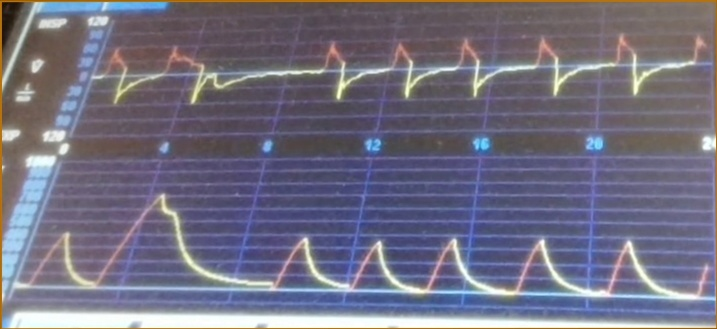Premature_cycling Flow: (103, 28, 712, 125)
Premature_cycling Volume: (38, 189, 711, 310)
